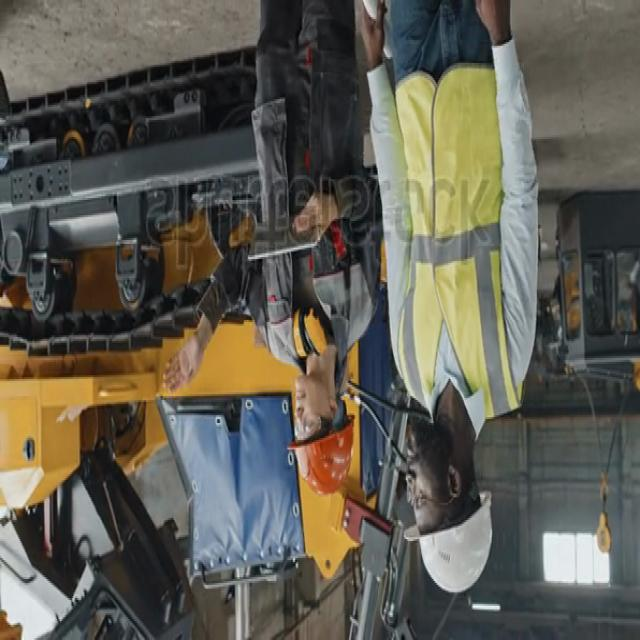Ear-Protection: (288, 302, 328, 366)
Glasses: (402, 475, 450, 513), (292, 406, 336, 442)
Helmet: (406, 486, 494, 598), (289, 414, 359, 494)
Vest: (394, 64, 518, 421)
